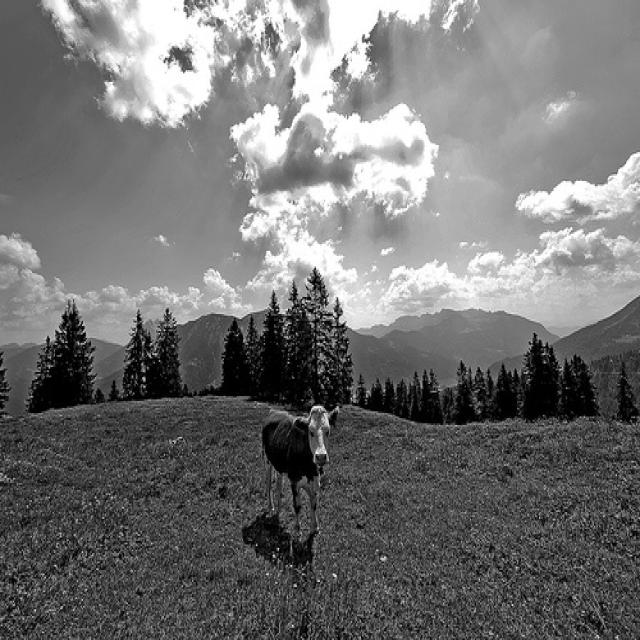cow: (260, 406, 340, 541)
